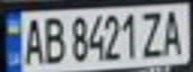1: (121, 9, 139, 61)
2: (103, 10, 124, 61)
4: (87, 11, 106, 62)
8: (66, 12, 90, 63)
A: (18, 14, 45, 66), (160, 6, 187, 57)
B: (39, 12, 69, 65)
Z: (139, 7, 166, 58)
